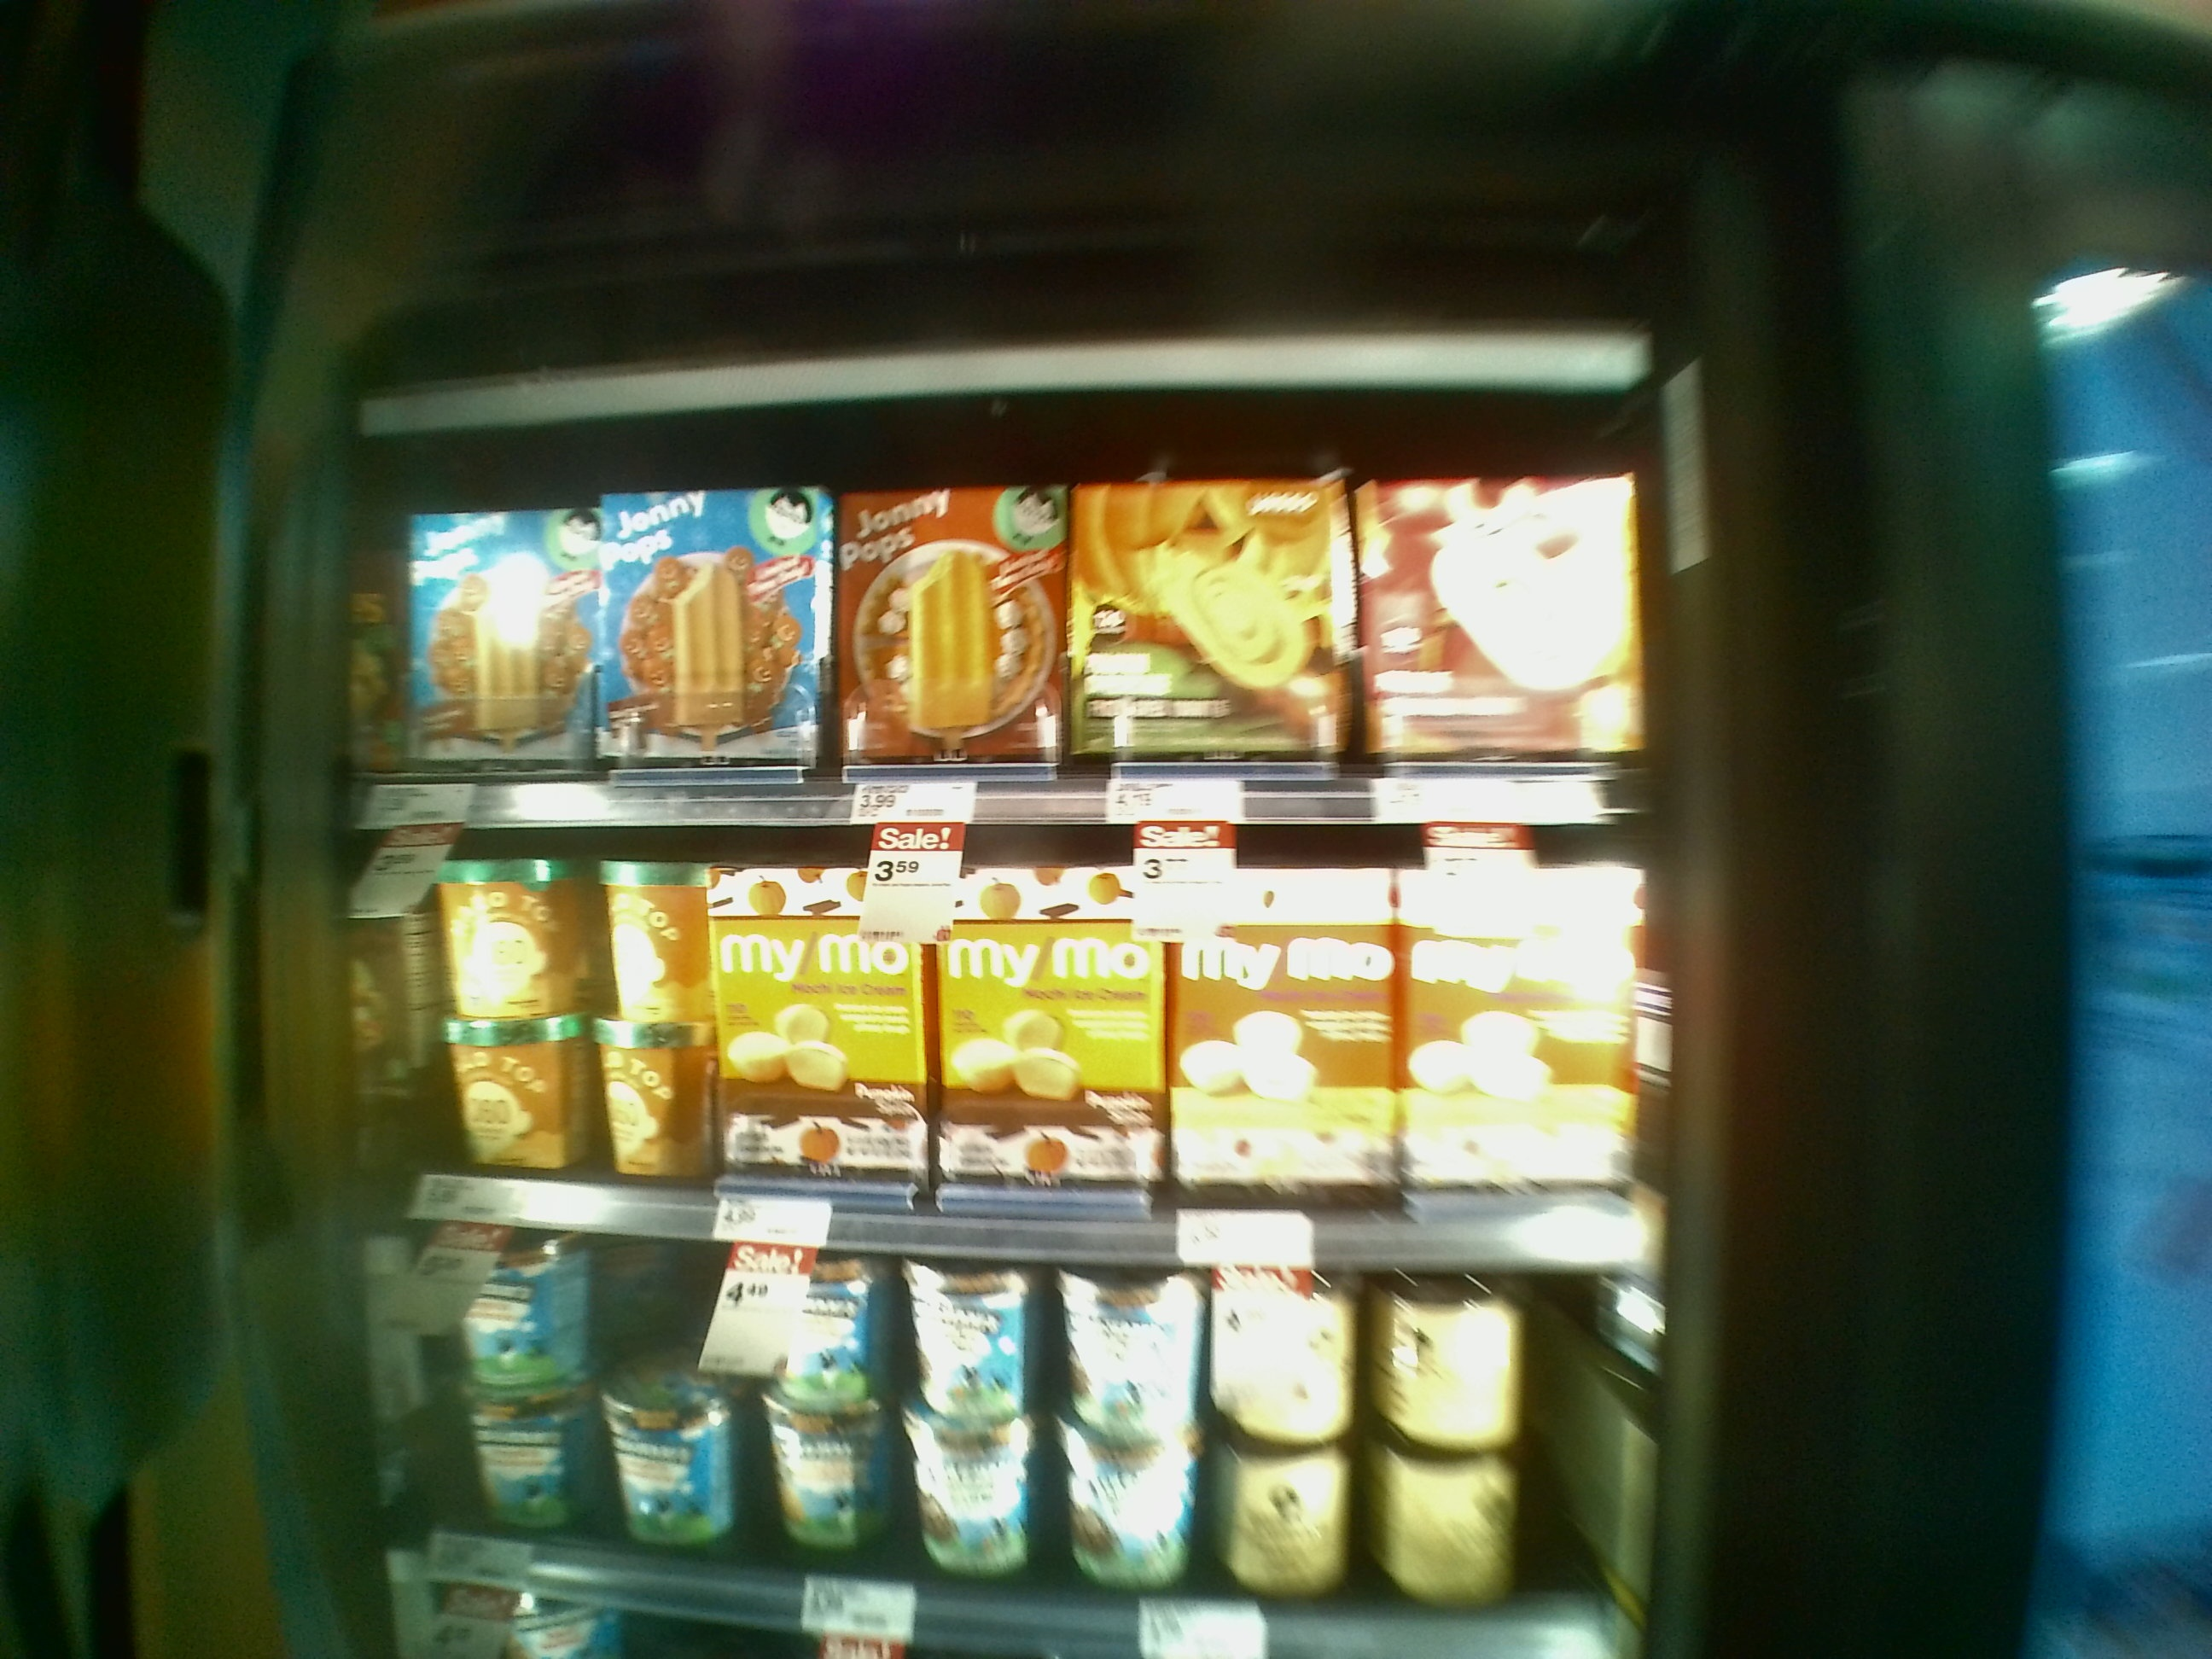shelf: (340, 784, 1651, 1277), (364, 432, 1635, 840)
